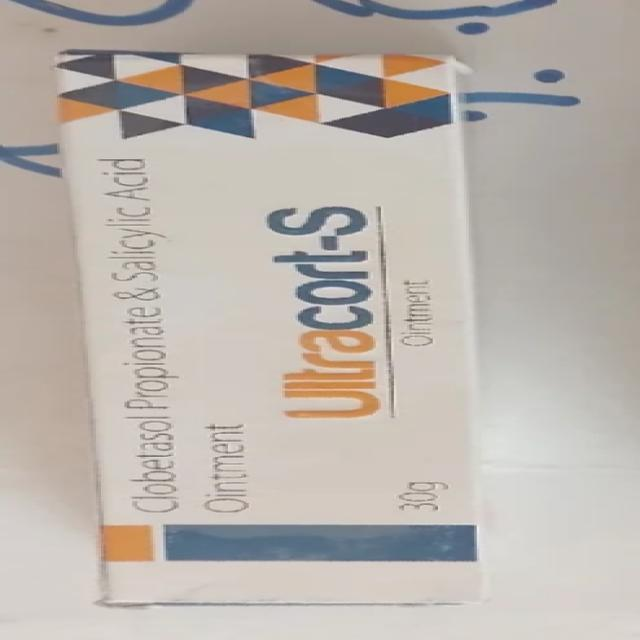drug-name: (256, 190, 384, 424)
